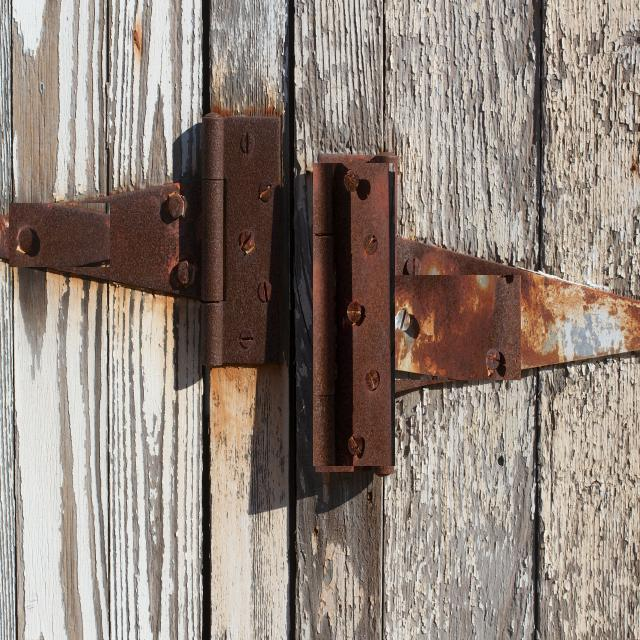Corrosion: (7, 116, 280, 366), (312, 153, 398, 476)
